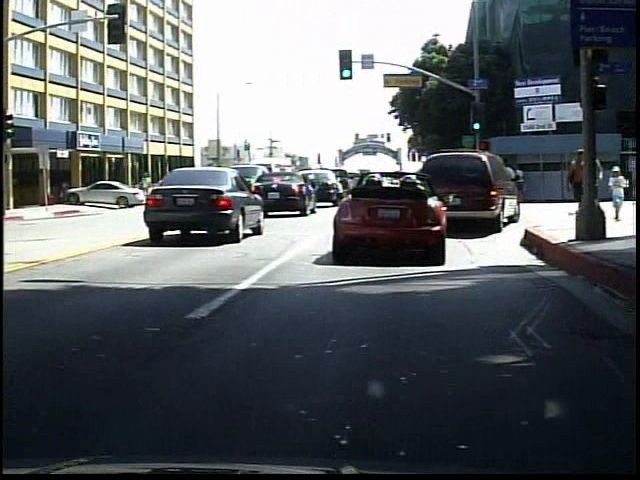person: (561, 145, 586, 223), (598, 168, 625, 222), (135, 171, 156, 205)
